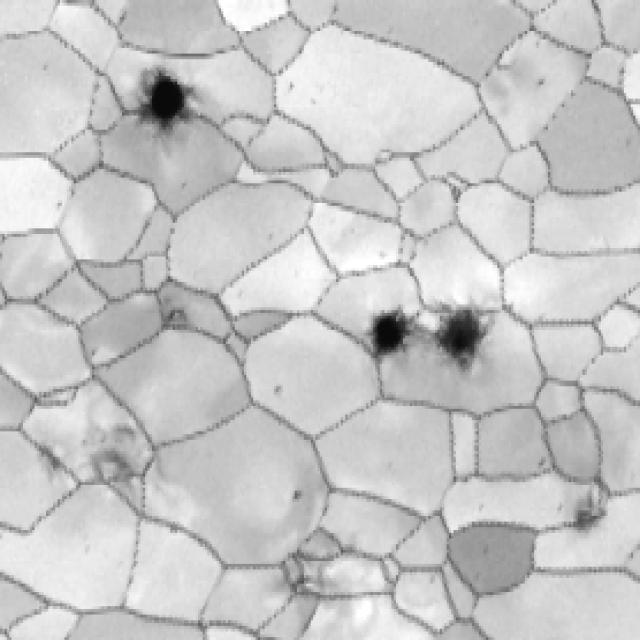good_void: (38, 413, 147, 492), (127, 62, 203, 140), (428, 297, 496, 377), (553, 482, 613, 539), (368, 308, 424, 365), (159, 295, 189, 342), (291, 486, 305, 509), (272, 382, 285, 400), (535, 457, 551, 471), (535, 72, 546, 91), (285, 82, 296, 95)
